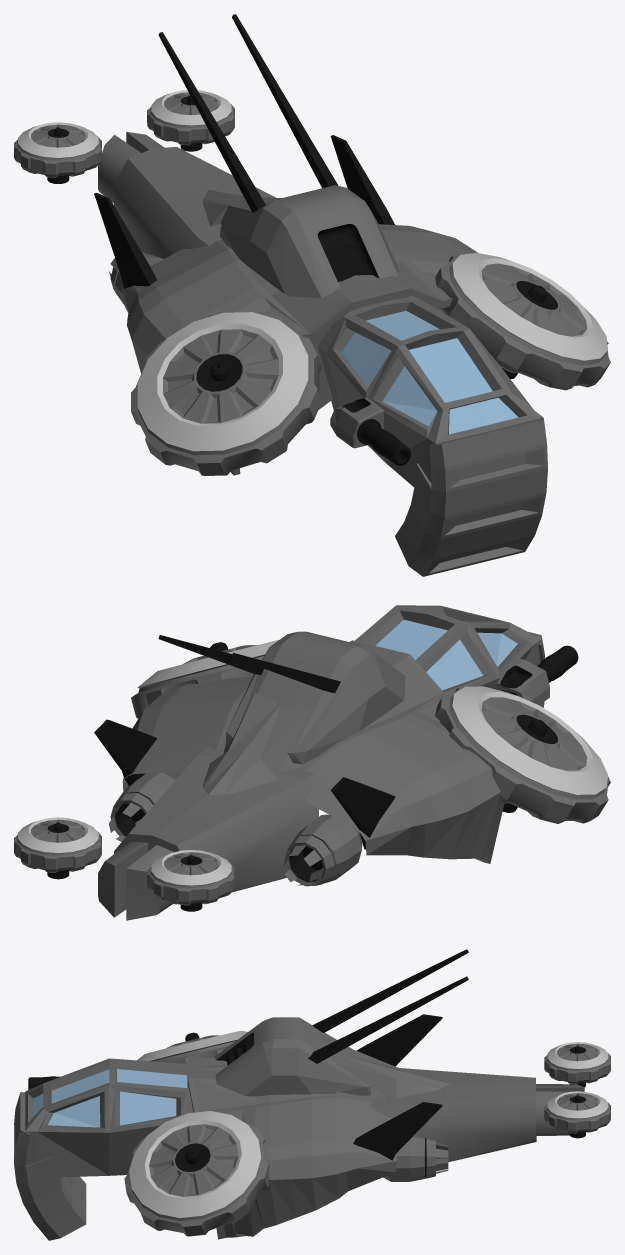
File: player.FBX
3 renders of one model, top to bottom at view 1: azimuth 30°, elevation 25°; view 2: azimuth 150°, elevation 25°; view 3: azimuth 270°, elevation 25°, orthographic. The views are drawn at different scales.
Parts seen in each view (by area): view 1: Hull#3, Cockpit#1, Cockpit#2, Hull#1, Hull#2, Antigrav#2, Antigrav#1, Box024, Cylinder009; view 2: Hull#3, Hull#2, Hull#1, Cockpit#1, Antigrav#2, Antigrav#1, Box024, Cylinder009; view 3: Hull#3, Cockpit#1, Hull#2, Hull#1, Cockpit#2, Antigrav#1, Antigrav#2.
Boxes of the visible parts, box(x1,y1,x2,y2) form: Hull#3: box(94, 14, 610, 475); Cockpit#1: box(318, 296, 543, 487); Cockpit#2: box(395, 418, 547, 576); Hull#1: box(219, 185, 398, 297); Hull#2: box(98, 131, 276, 259); Antigrav#2: box(14, 122, 101, 183); Antigrav#1: box(147, 90, 234, 151); Box024: box(330, 397, 383, 448); Cylinder009: box(357, 419, 411, 465); Hull#3: box(94, 635, 610, 886); Hull#2: box(98, 746, 318, 920); Hull#1: box(225, 631, 405, 764); Cockpit#1: box(355, 605, 541, 694); Antigrav#2: box(147, 850, 234, 911); Antigrav#1: box(14, 817, 101, 879); Box024: box(497, 658, 549, 704); Cylinder009: box(537, 645, 578, 682); Hull#3: box(124, 949, 468, 1239); Cockpit#1: box(25, 1058, 193, 1177); Hull#2: box(368, 1068, 584, 1162); Hull#1: box(214, 1017, 370, 1096); Cockpit#2: box(14, 1092, 86, 1240); Antigrav#1: box(544, 1091, 610, 1138); Antigrav#2: box(544, 1042, 610, 1087).
Size of the model in its own units: 14427 by 10304 by 21582.
